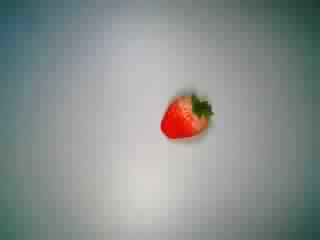strawberry: (152, 86, 218, 152)
